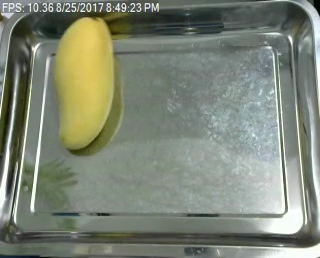Mango: (48, 12, 117, 152)
